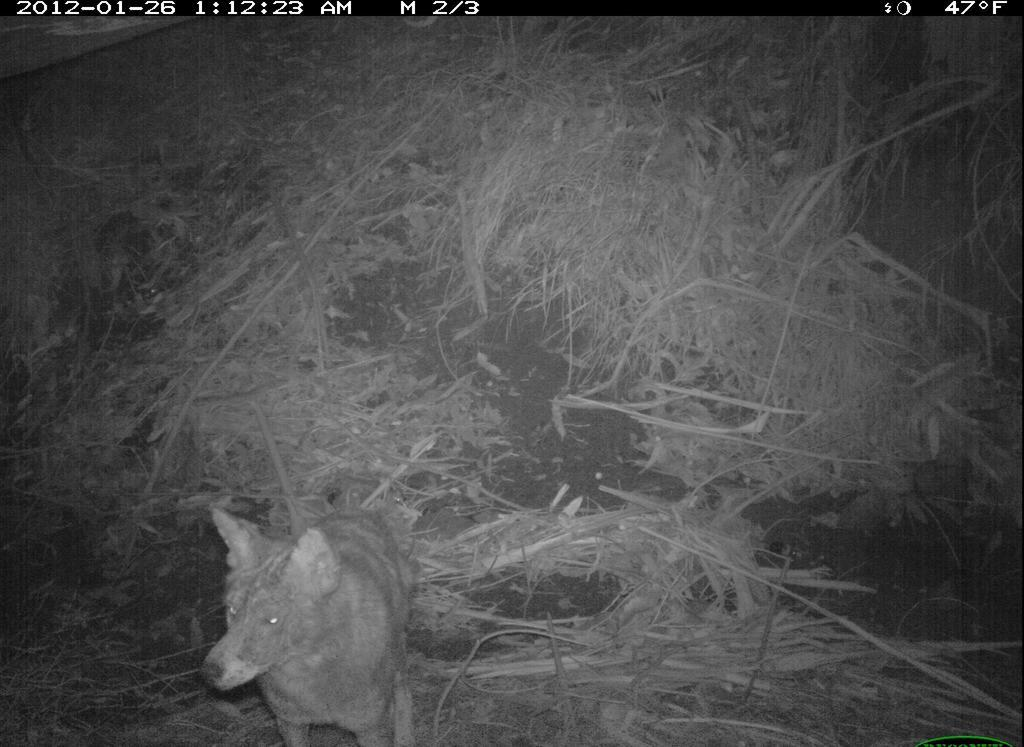coyote: (187, 487, 436, 747)
